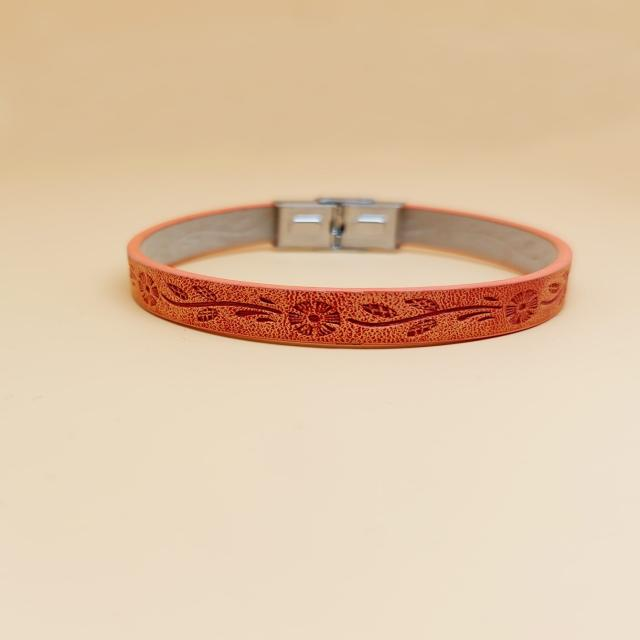bracelet: (94, 123, 640, 449)
